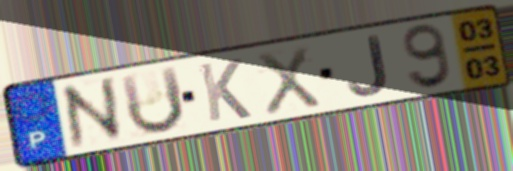9: (399, 21, 455, 92)
J: (345, 33, 391, 98)
K: (196, 56, 255, 124)
N: (56, 73, 129, 153)
U: (116, 63, 188, 138)
X: (253, 43, 324, 118)
